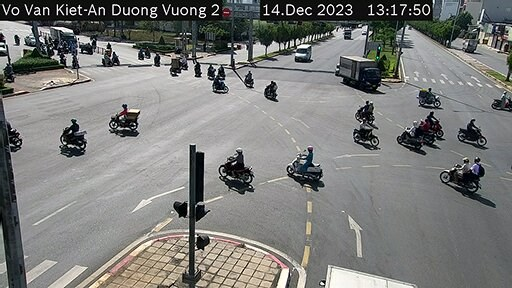motorbike: (289, 146, 327, 185), (445, 159, 484, 192), (226, 150, 255, 188), (63, 117, 88, 156), (424, 111, 451, 143), (114, 101, 138, 135), (413, 117, 439, 147), (397, 119, 419, 154), (461, 119, 490, 140), (355, 121, 377, 148), (356, 98, 375, 129), (417, 86, 443, 106), (243, 69, 257, 91), (497, 91, 512, 110), (208, 77, 229, 90), (265, 84, 280, 102), (218, 67, 227, 84), (207, 65, 216, 82), (193, 62, 201, 80)
truck: (332, 54, 382, 94), (51, 26, 73, 46), (293, 44, 311, 62), (464, 39, 480, 54)
